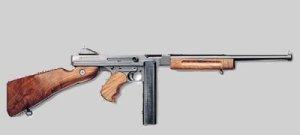rifle: (4, 44, 294, 125)
